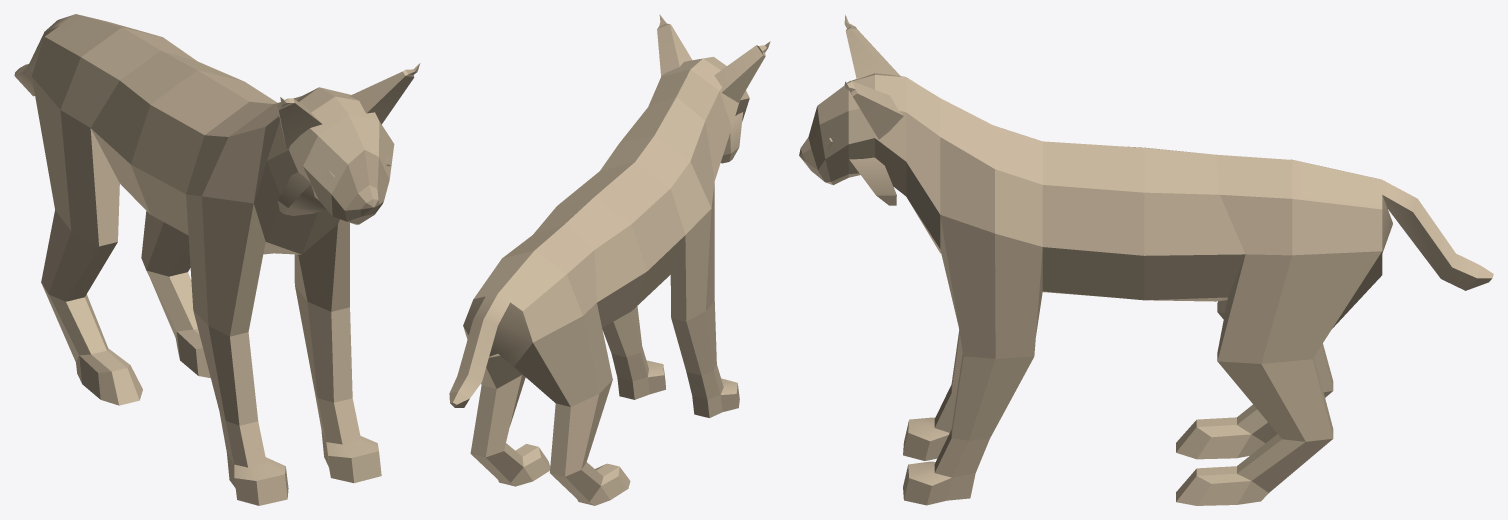
File: kaiming.glb
The picture shows the model from 3 angles, left to right: view 1: azimuth 30°, elevation 25°; view 2: azimuth 150°, elevation 25°; view 3: azimuth 270°, elevation 25°; orthographic projection. The views are drawn at different scales.
Parts seen in each view (by area): view 1: Geo_Bobcat; view 2: Geo_Bobcat; view 3: Geo_Bobcat.
Part boxes in pixels (<box>): Geo_Bobcat: <box>14,14,420,505</box>; Geo_Bobcat: <box>449,14,770,505</box>; Geo_Bobcat: <box>799,14,1493,505</box>.
Size of the model in its own units: 32 by 92.21 by 137.
